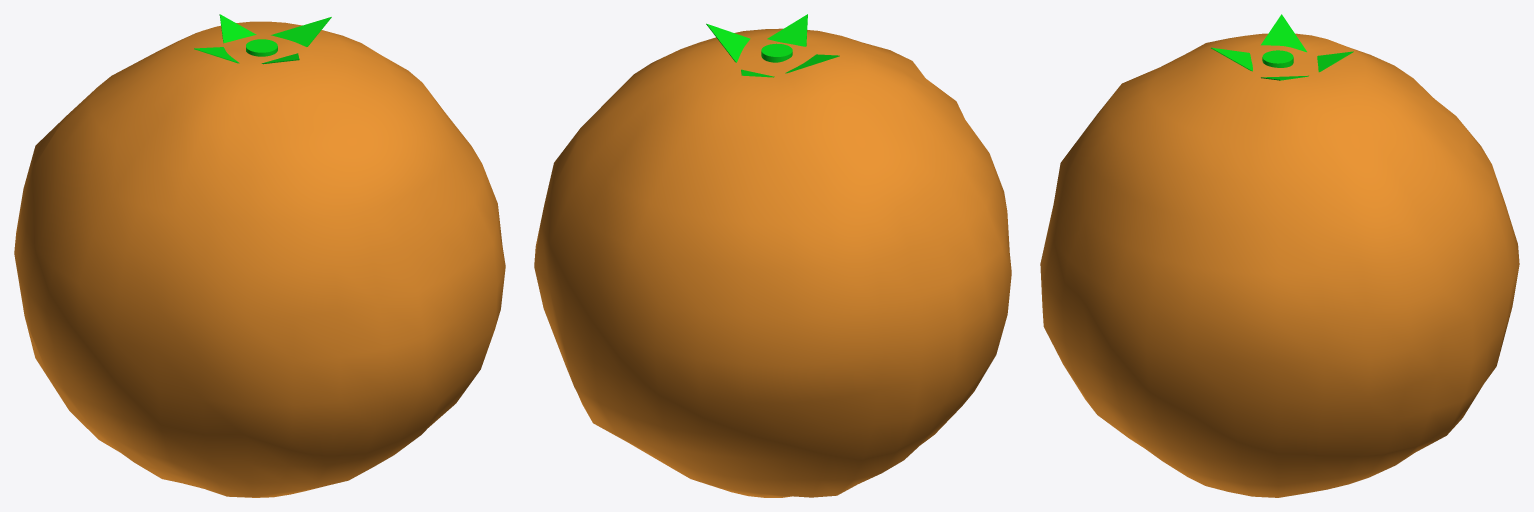
File: orange.fbx
3 renders of one model, left to right at view 1: azimuth 30°, elevation 25°; view 2: azimuth 150°, elevation 25°; view 3: azimuth 270°, elevation 25°, orthographic. The views are drawn at different scales.
Parts seen in each view (by area): view 1: Sphere, Cube.003, Cube.002; view 2: Sphere, Cube.004, Cube.003; view 3: Sphere, Cube.001.
Part boxes in pixels (box(x1,y1,x2,y2)): Sphere: box(14, 21, 505, 497); Cube.003: box(271, 17, 331, 46); Cube.002: box(219, 14, 256, 43); Sphere: box(534, 28, 1011, 497); Cube.004: box(767, 14, 807, 46); Cube.003: box(706, 23, 750, 62); Sphere: box(1040, 33, 1519, 497); Cube.001: box(1261, 14, 1306, 52).
Bounding box in the file's own units: 764 × 739 × 765.
